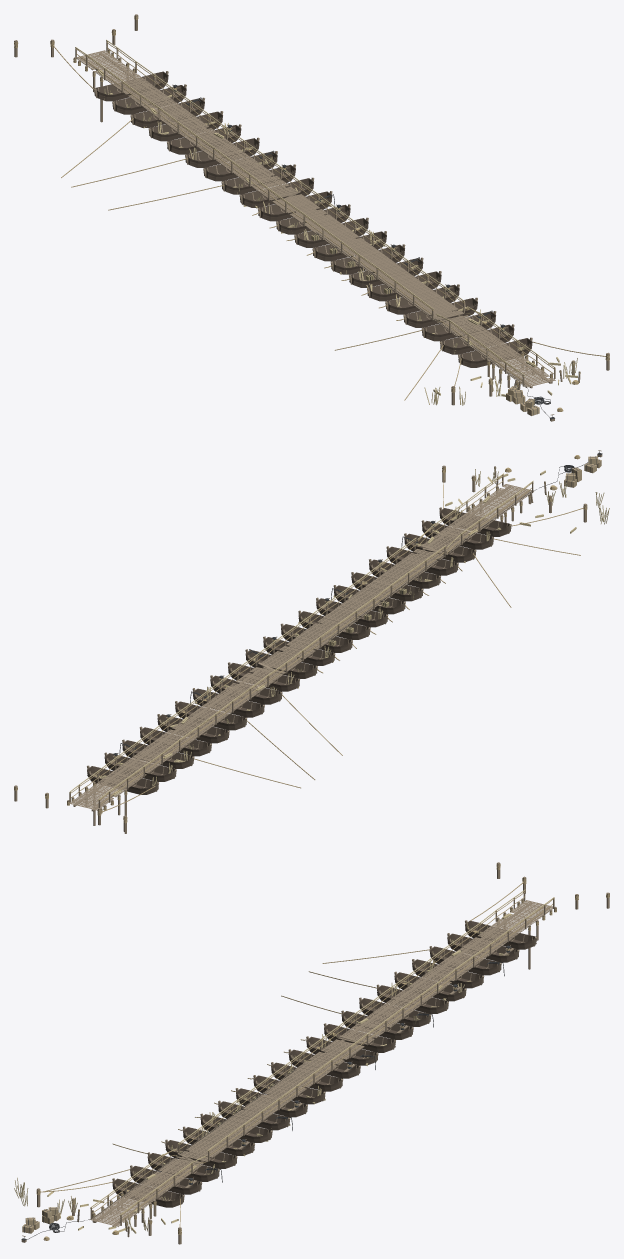
File: Model_PontoonBridge.glb
3 renders of one model, top to bottom at view 1: azimuth 30°, elevation 25°; view 2: azimuth 150°, elevation 25°; view 3: azimuth 330°, elevation 25°, orthographic. The views are drawn at different scales.
Visible parts, largest first — view 1: NorthSection, SouthSection, BankSouth, BankNorth, SinkBoat3, SinkBoat4, SinkBoat10, SinkBoat11, Crates; view 2: NorthSection, SouthSection, BankSouth, BankNorth, Crates, SinkBoat10, SinkBoat4, SinkBoat3, SinkBoat11; view 3: NorthSection, SouthSection, BankSouth, BankNorth, Crates, SinkBoat4, SinkBoat10, SinkBoat3, SinkBoat11.
Part boxes in pixels (x1,y1,x2,y2): NorthSection: [53, 45, 314, 210]; SouthSection: [334, 306, 605, 400]; BankSouth: [451, 339, 609, 405]; BankNorth: [14, 14, 138, 122]; SinkBoat3: [396, 286, 477, 327]; SinkBoat4: [379, 273, 459, 314]; SinkBoat10: [269, 193, 350, 234]; SinkBoat11: [252, 180, 335, 221]; Crates: [424, 357, 580, 415]; NorthSection: [87, 654, 342, 812]; SouthSection: [401, 470, 583, 607]; BankSouth: [442, 465, 587, 522]; BankNorth: [14, 770, 128, 833]; Crates: [445, 455, 609, 533]; SinkBoat10: [263, 628, 339, 665]; SinkBoat4: [369, 551, 445, 588]; SinkBoat3: [386, 537, 462, 575]; SinkBoat11: [245, 641, 322, 678]; NorthSection: [281, 882, 536, 1052]; SouthSection: [40, 1143, 222, 1226]; BankSouth: [36, 1181, 181, 1244]; BankNorth: [495, 862, 609, 969]; Crates: [14, 1177, 178, 1240]; SinkBoat4: [178, 1116, 254, 1156]; SinkBoat10: [284, 1038, 360, 1078]; SinkBoat3: [161, 1130, 237, 1168]; SinkBoat11: [300, 1027, 378, 1069].
Size of the model in its own units: 19.39 by 5.58 by 84.91.
